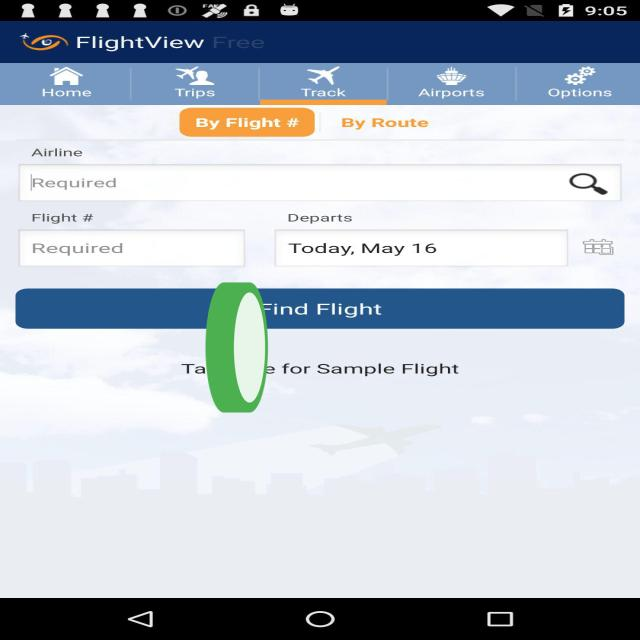social proof: (202, 232, 270, 473)
